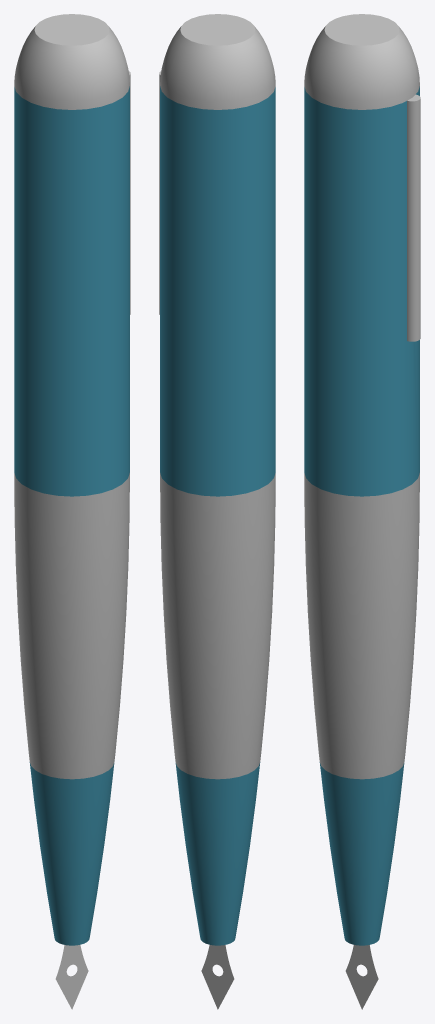
The model's file is Pen.dae.
3 views of the same model, side by side, from view 1: azimuth 30°, elevation 25°; view 2: azimuth 150°, elevation 25°; view 3: azimuth 330°, elevation 25° (orthographic).
Visible parts, largest first — view 1: pen; view 2: pen; view 3: pen.
Part boxes in pixels (box(x1,y1,x2,y2)): pen: box(14, 14, 130, 1009); pen: box(159, 14, 275, 1009); pen: box(304, 14, 420, 1009).
Size of the model in its own units: 36.19 by 33.7 by 315.
